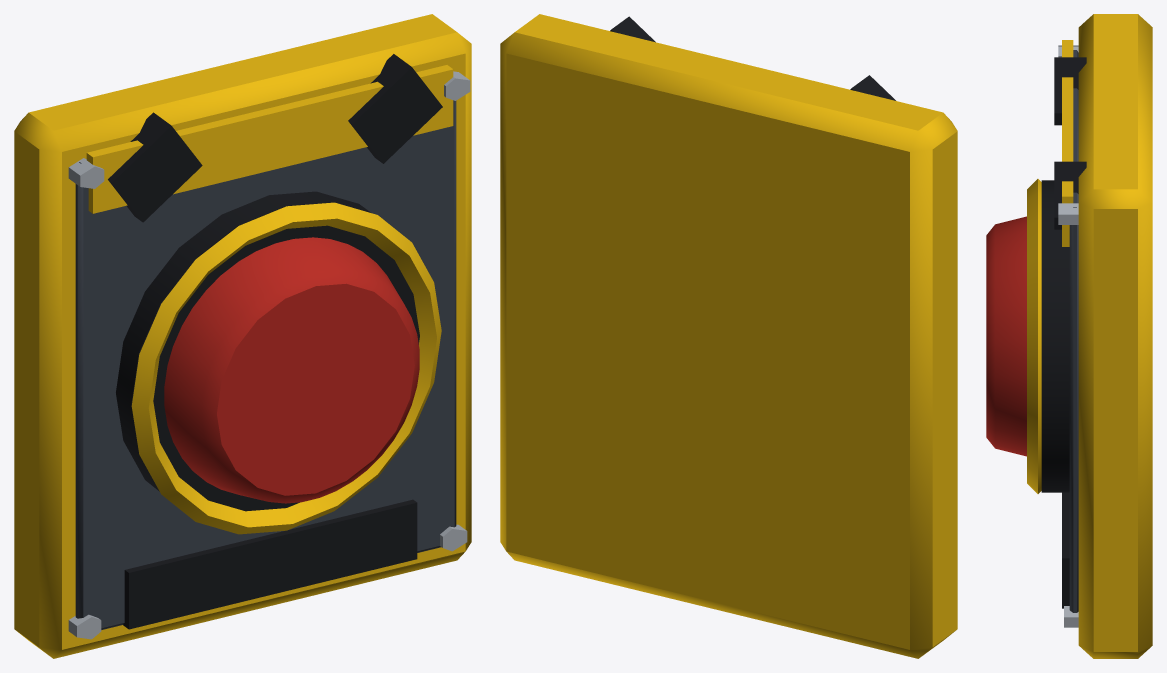
Rendered from controlpanel_emergency_stop.glb.
The picture shows the model from 3 angles, left to right: view 1: azimuth 30°, elevation 25°; view 2: azimuth 150°, elevation 25°; view 3: azimuth 270°, elevation 25°; orthographic projection. The views are drawn at different scales.
Visible parts, largest first — view 1: controlpanel_emergency_stop; view 2: controlpanel_emergency_stop; view 3: controlpanel_emergency_stop.
Boxes of the visible parts, bbox=[...] form: controlpanel_emergency_stop: bbox=[14, 14, 471, 658]; controlpanel_emergency_stop: bbox=[500, 14, 957, 658]; controlpanel_emergency_stop: bbox=[986, 14, 1152, 658].
Size of the model in its own units: 0.24 by 0.28 by 0.09.
